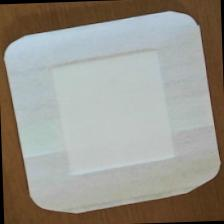Dressing: (2, 7, 224, 217)
